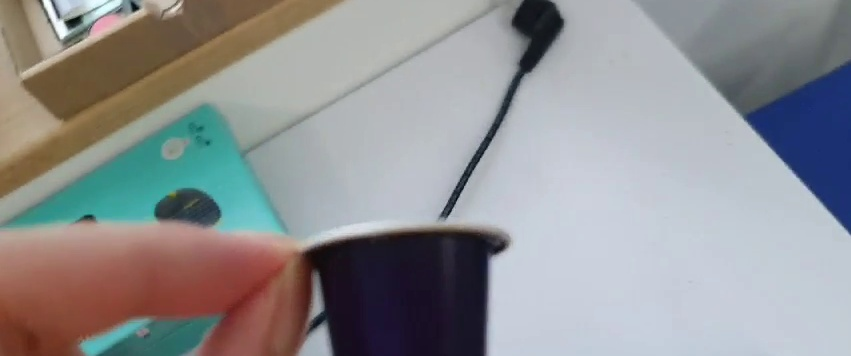capsule_2: (293, 217, 507, 356)
